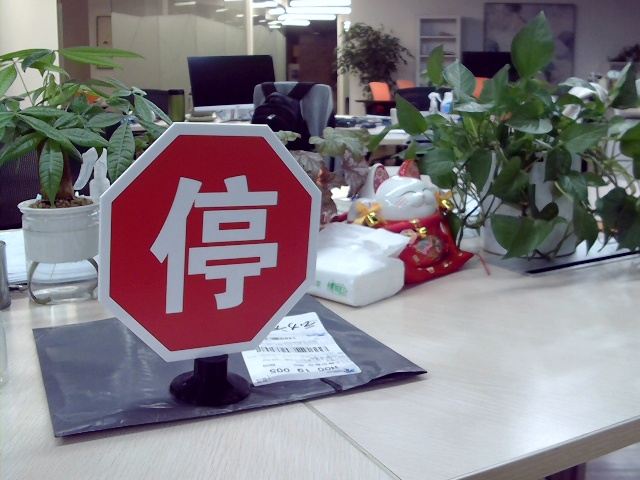stop: (144, 169, 275, 313)
